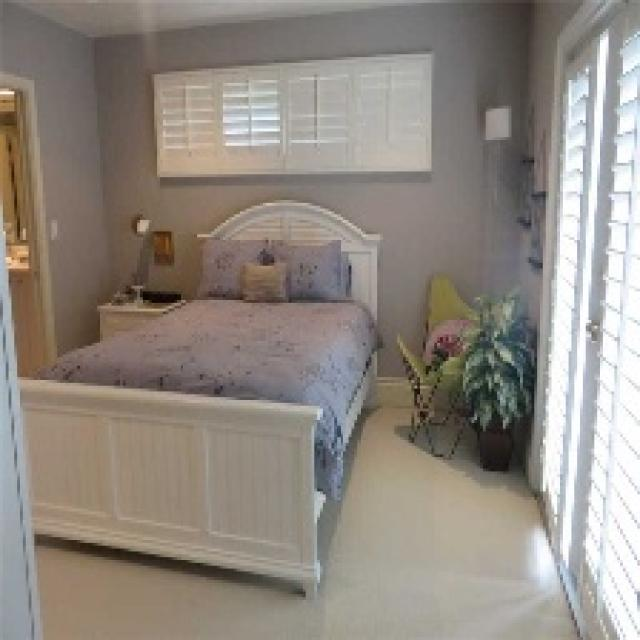Bed: (14, 197, 383, 597)
